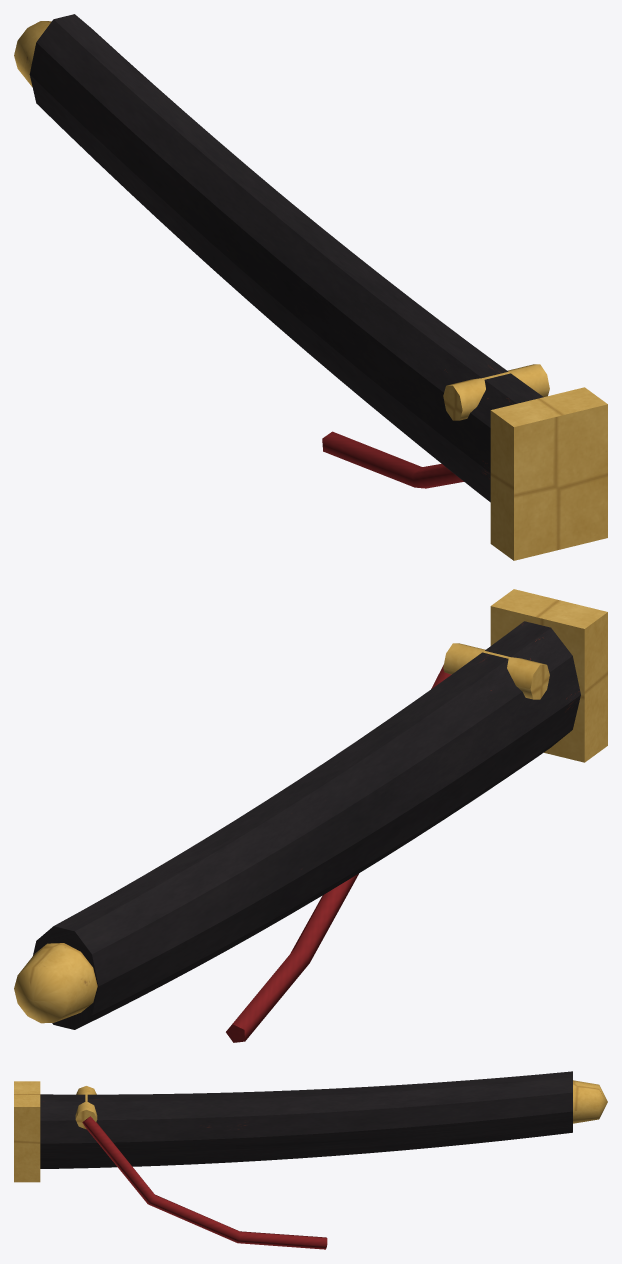
The model's file is HO_Weapon_TemperedKatana_Saya.fbx.
3 renders of one model, top to bottom at view 1: azimuth 30°, elevation 25°; view 2: azimuth 150°, elevation 25°; view 3: azimuth 270°, elevation 25°, orthographic. The views are drawn at different scales.
Visible parts, largest first — view 1: HO_Weapon_TemperedKatana_Saya__Black_Lacquer, HO_Weapon_TemperedKatana_Saya__Gold_Leaf, HO_Weapon_TemperedKatana_Saya__Cloth_Crimson; view 2: HO_Weapon_TemperedKatana_Saya__Black_Lacquer, HO_Weapon_TemperedKatana_Saya__Gold_Leaf, HO_Weapon_TemperedKatana_Saya__Cloth_Crimson; view 3: HO_Weapon_TemperedKatana_Saya__Black_Lacquer, HO_Weapon_TemperedKatana_Saya__Gold_Leaf, HO_Weapon_TemperedKatana_Saya__Cloth_Crimson.
Part boxes in pixels (x1,y1,x2,y2): HO_Weapon_TemperedKatana_Saya__Black_Lacquer: [29, 14, 543, 502]; HO_Weapon_TemperedKatana_Saya__Gold_Leaf: [14, 21, 607, 560]; HO_Weapon_TemperedKatana_Saya__Cloth_Crimson: [322, 431, 463, 488]; HO_Weapon_TemperedKatana_Saya__Black_Lacquer: [33, 621, 580, 1029]; HO_Weapon_TemperedKatana_Saya__Gold_Leaf: [14, 589, 607, 1023]; HO_Weapon_TemperedKatana_Saya__Cloth_Crimson: [226, 664, 451, 1042]; HO_Weapon_TemperedKatana_Saya__Black_Lacquer: [40, 1071, 572, 1168]; HO_Weapon_TemperedKatana_Saya__Gold_Leaf: [14, 1080, 607, 1182]; HO_Weapon_TemperedKatana_Saya__Cloth_Crimson: [82, 1116, 327, 1249].
Size of the model in its own units: 0.3699 by 0.817 by 2.72.
